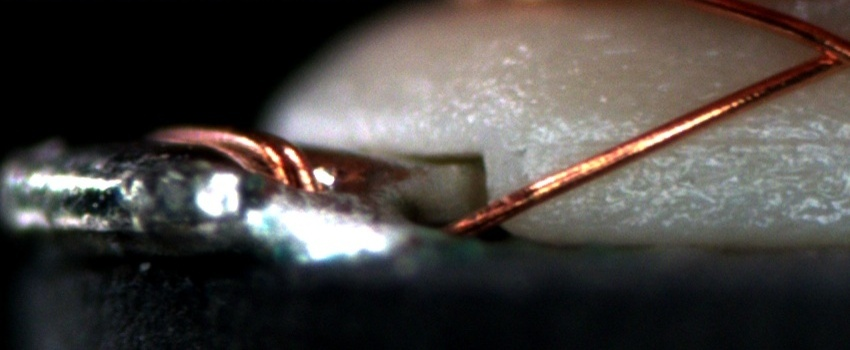CL: (794, 25, 850, 77)
DL: (523, 111, 850, 175)
TE: (152, 118, 324, 196)
